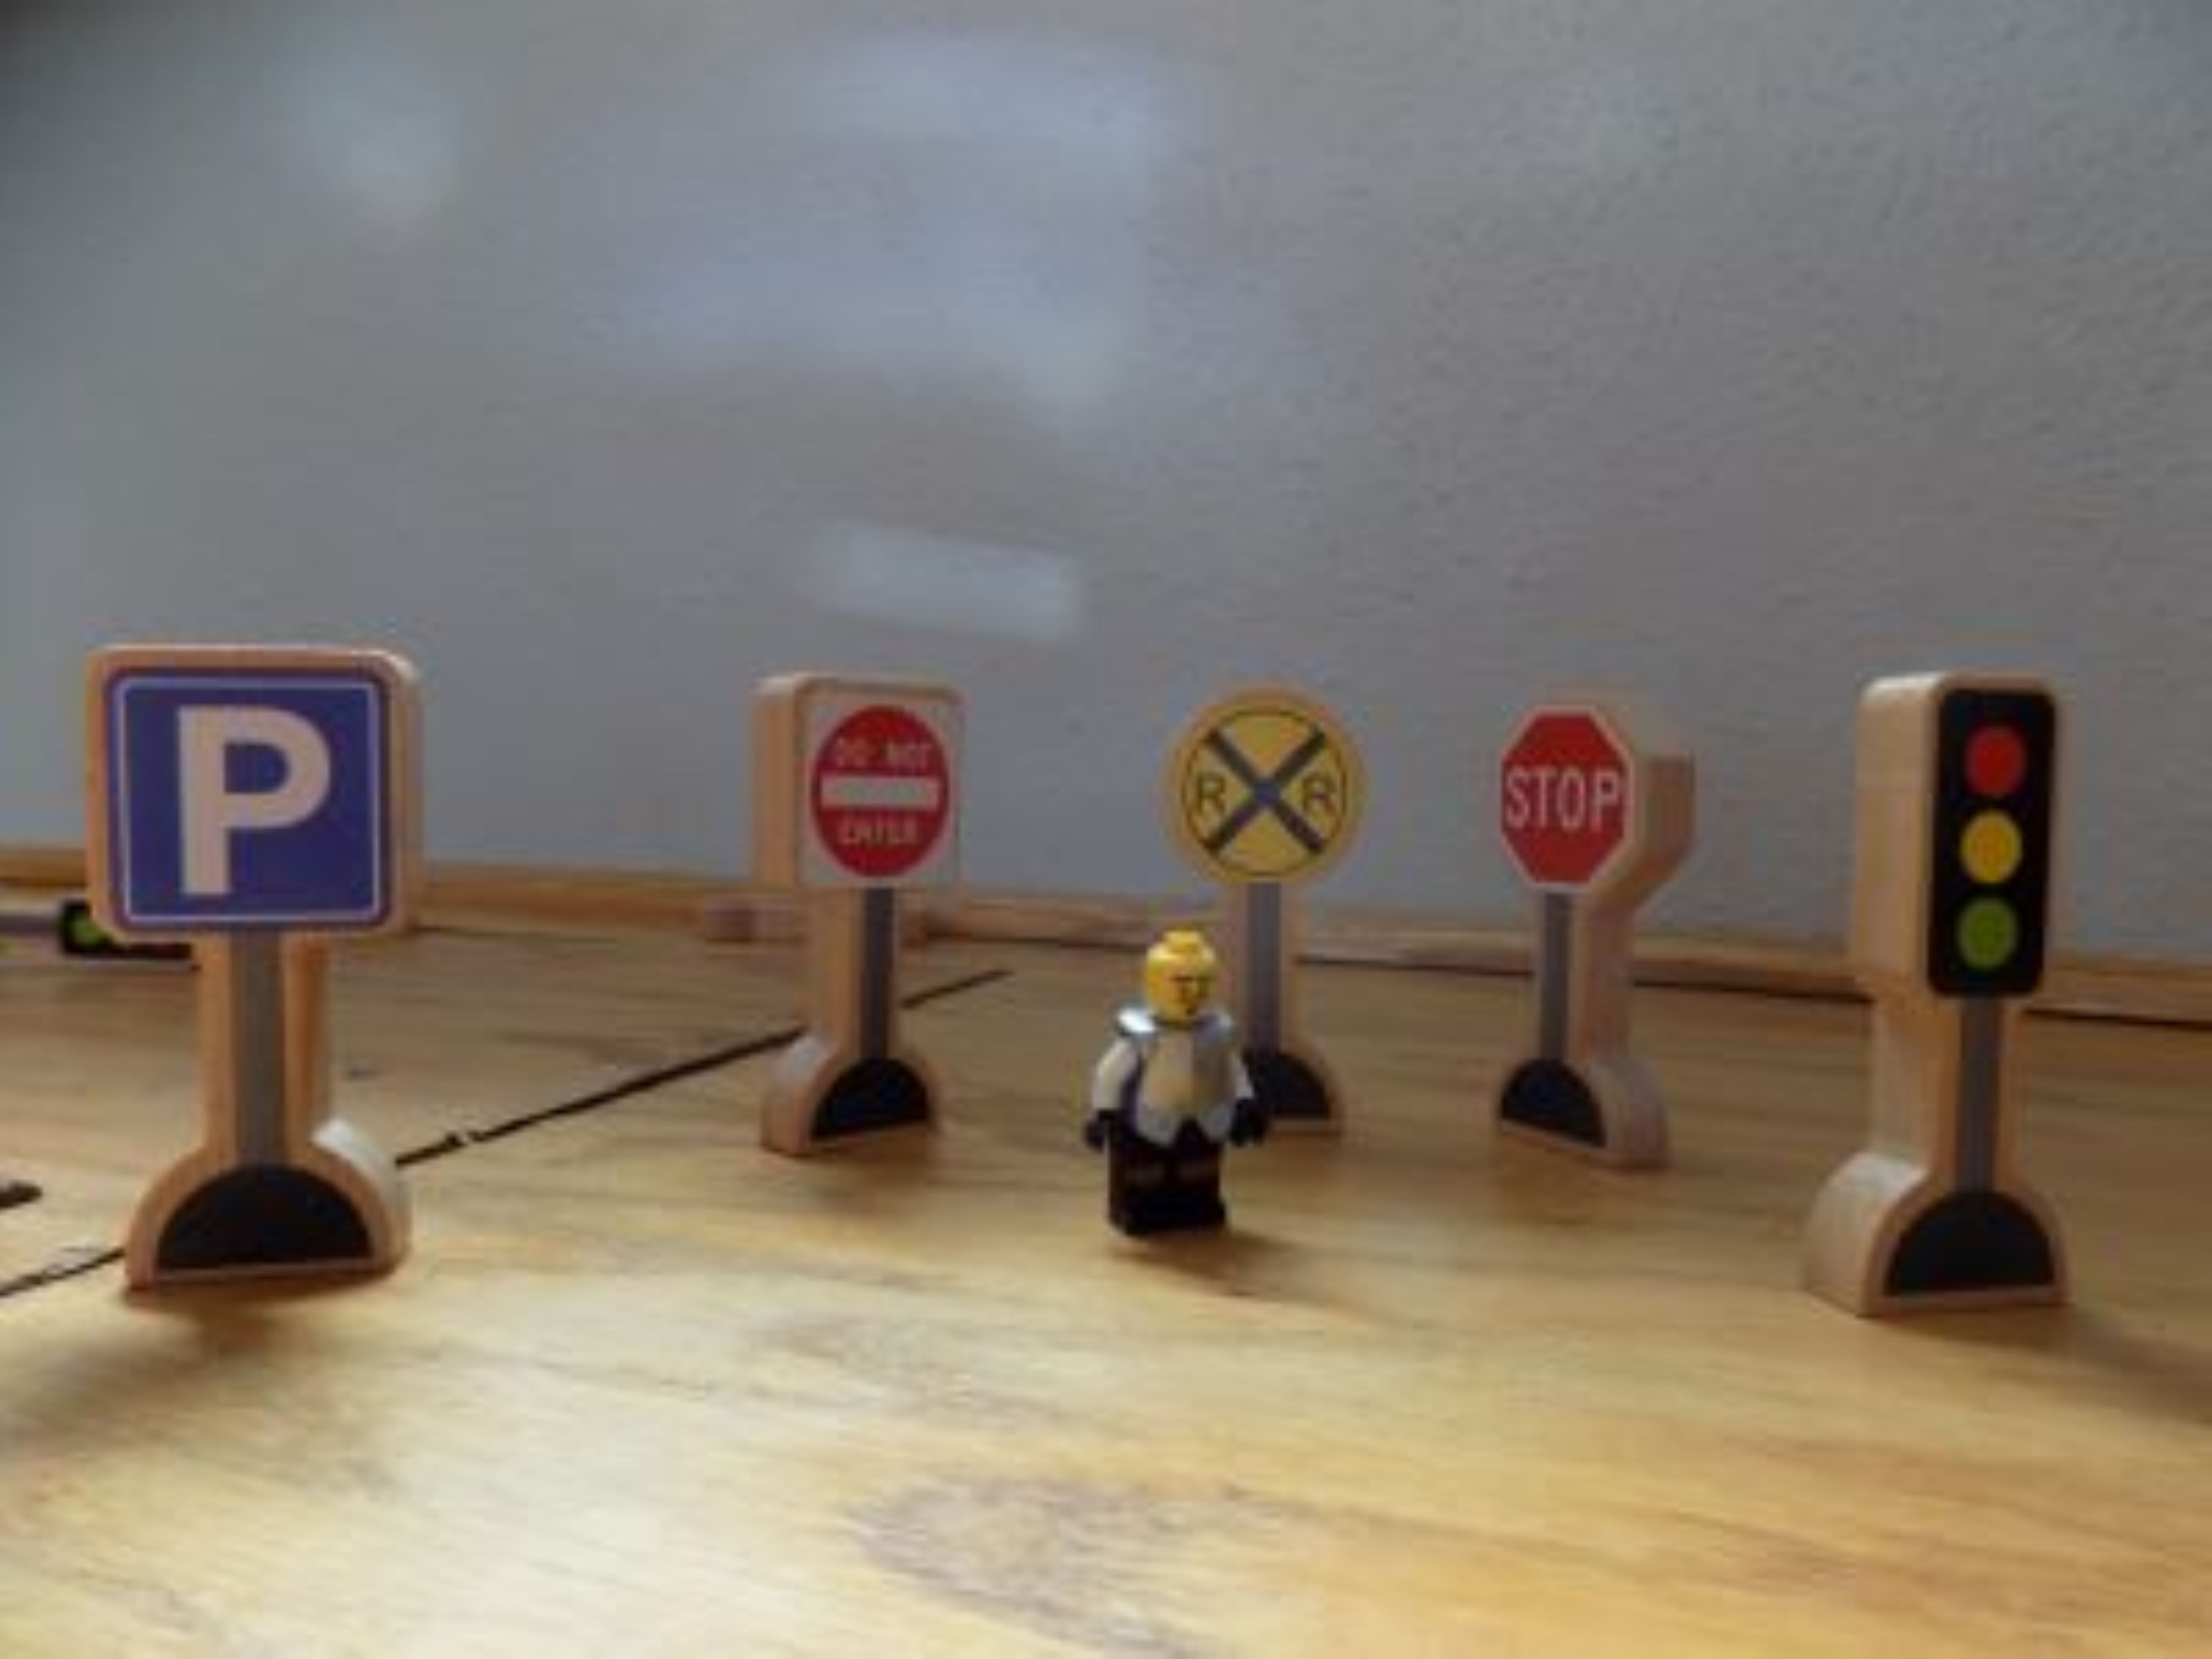Do Not Enter: (746, 671, 980, 903)
Parking Sign: (85, 647, 434, 960)
Person: (1073, 926, 1279, 1247)
Rail Road Sign: (1167, 690, 1359, 886)
Red Traffic Light: (1859, 663, 2074, 1024)
Stop Sign: (1486, 690, 1718, 933)
